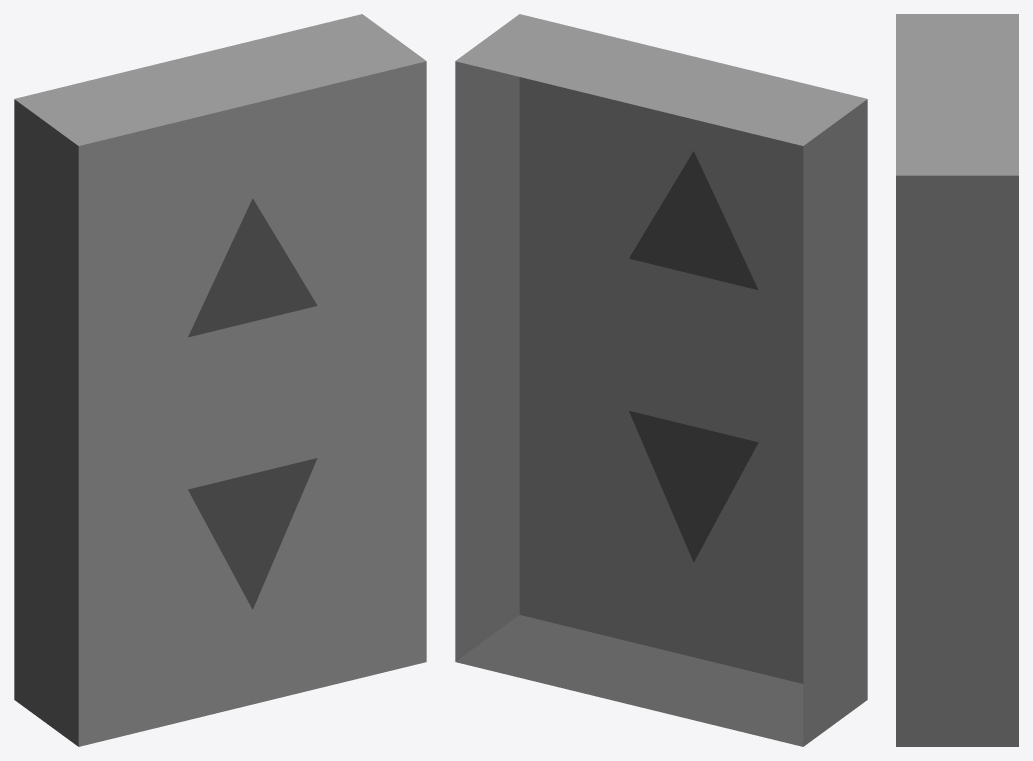
File: SO_Elevator_Button.fbx
3 views of the same model, side by side, from view 1: azimuth 30°, elevation 25°; view 2: azimuth 150°, elevation 25°; view 3: azimuth 270°, elevation 25° (orthographic). The views are drawn at different scales.
Parts seen in each view (by area): view 1: SO_Elevator_Button; view 2: SO_Elevator_Button; view 3: SO_Elevator_Button.
Boxes of the visible parts, x1,y1,x2,y2 form: SO_Elevator_Button: [14, 14, 426, 746]; SO_Elevator_Button: [455, 14, 867, 746]; SO_Elevator_Button: [896, 14, 1018, 746].
Size of the model in its own units: 0.4718 by 0.778 by 0.1514.
